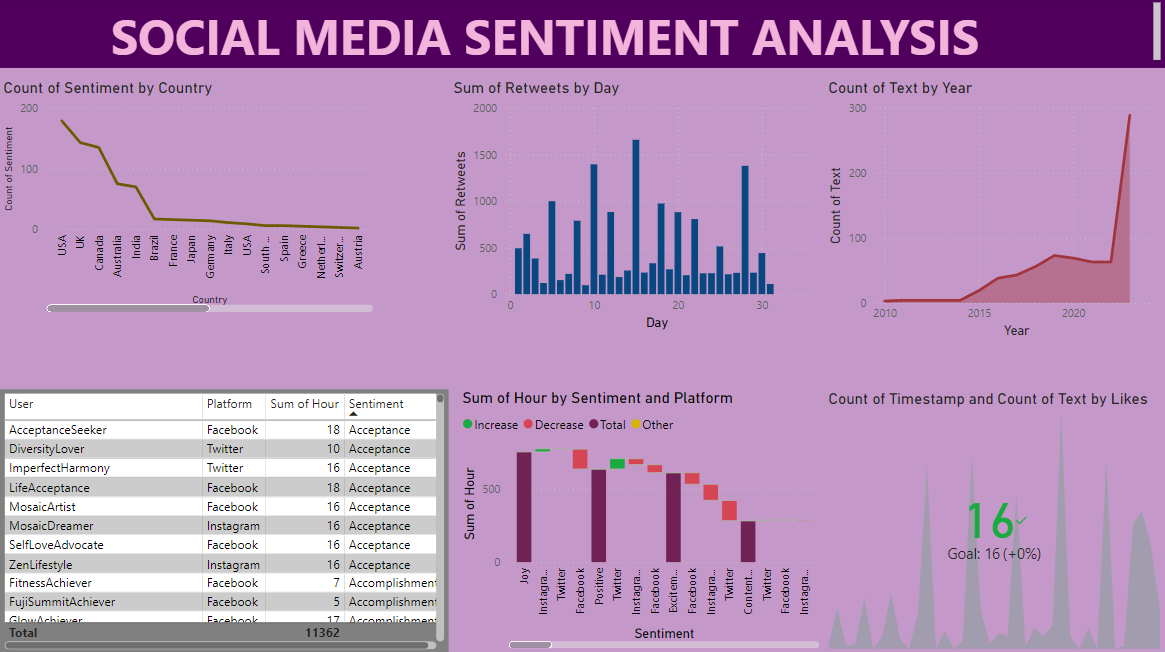

The page's visual inventory and layout, read from the dashboard file:
{"tool":"powerbi","page":{"name":"Page 1","canvas":[1280,720],"ordinal":0},"visuals":[{"type":"lineChart","fields":{"Category":["sentimentdataset.Country"],"Y":["CountNonNull(sentimentdataset.Sentiment)"]},"box":[0,87.8,415.8,262.1],"z":0},{"type":"columnChart","fields":{"Y":["Sum(sentimentdataset.Retweets)"],"Category":["sentimentdataset.Day"]},"box":[494,87.8,402.1,281.3],"z":1000},{"type":"waterfallChart","fields":{"Category":["sentimentdataset.Sentiment"],"Y":["Sum(sentimentdataset.Hour)"],"Breakdown":["sentimentdataset.Platform"]},"box":[503.6,428.1,402.1,290.9],"z":2000},{"type":"tableEx","fields":{"Values":["sentimentdataset.User","sentimentdataset.Platform","Sum(sentimentdataset.Hour)","sentimentdataset.Sentiment"]},"box":[0,429.5,494,290.9],"z":3000},{"type":"areaChart","fields":{"Category":["sentimentdataset.Year"],"Y":["CountNonNull(sentimentdataset.Text)"]},"box":[905.7,87.8,374.6,290.9],"z":4000},{"type":"kpi","fields":{"Indicator":["CountNonNull(sentimentdataset.Timestamp)"],"Goal":["CountNonNull(sentimentdataset.Text)"],"TrendLine":["sentimentdataset.Likes"]},"box":[906,430,374,290],"z":5000},{"type":"textbox","box":[0,0,1280.3,76.8],"z":5001}]}

Visuals, with their boxes in screenshot pixels (x1, y1, x2, y2), scaled from the page's 1280x720 canvas onto the 1165x652 screenshot:
lineChart - sentimentdataset.Country x CountNonNull(sentimentdataset.Sentiment): locate(0, 80, 378, 317)
columnChart - Sum(sentimentdataset.Retweets) x sentimentdataset.Day: locate(450, 80, 816, 334)
waterfallChart - sentimentdataset.Sentiment x Sum(sentimentdataset.Hour): locate(458, 388, 824, 651)
tableEx - sentimentdataset.User x sentimentdataset.Platform: locate(0, 389, 450, 651)
areaChart - sentimentdataset.Year x CountNonNull(sentimentdataset.Text): locate(824, 80, 1164, 343)
kpi - CountNonNull(sentimentdataset.Timestamp) x CountNonNull(sentimentdataset.Text): locate(825, 389, 1164, 651)
textbox: locate(0, 0, 1164, 70)
